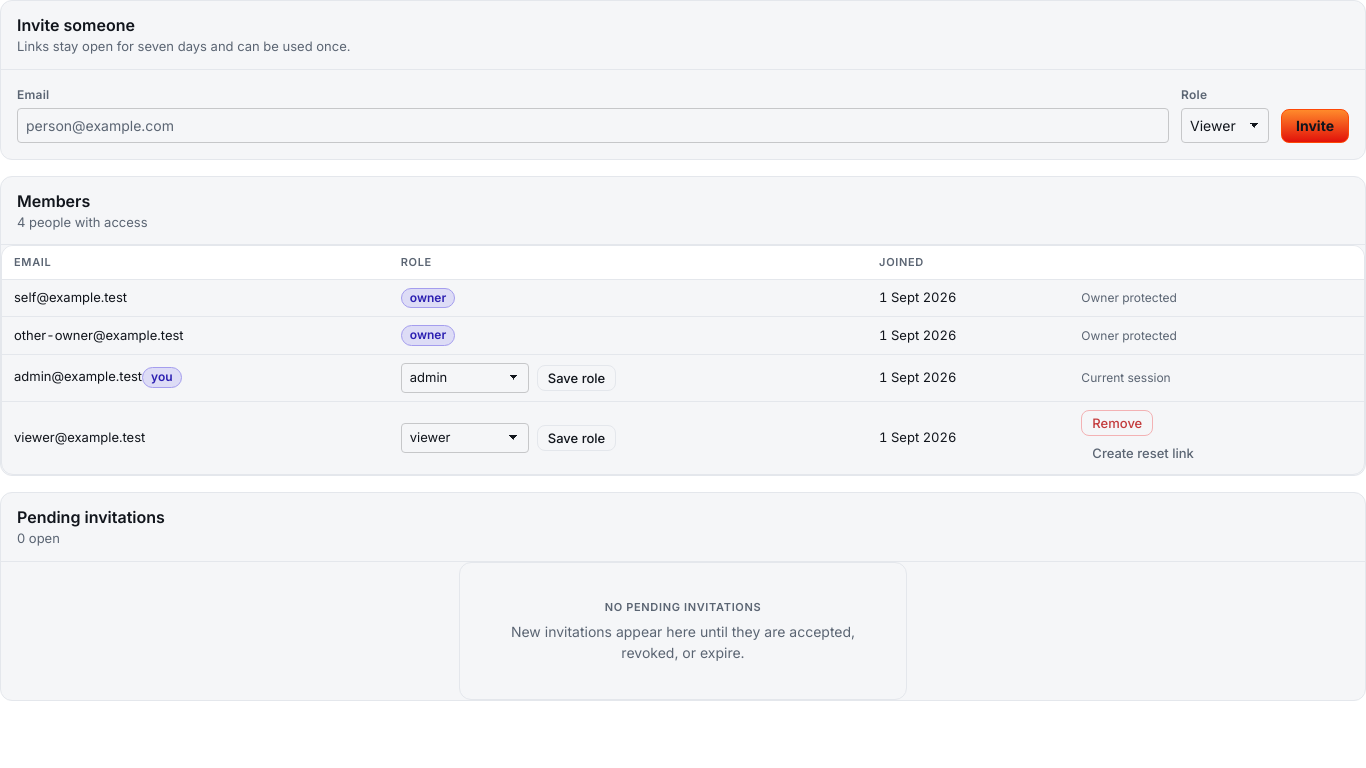
Test: members screen one-time links › shows a reset link once and a refusal as an alert
The width and height of the screenshot is (1366, 768).
Click the button with test id "create-reset-link": (1143, 453) x1=1081 y1=440 x2=1205 y2=466
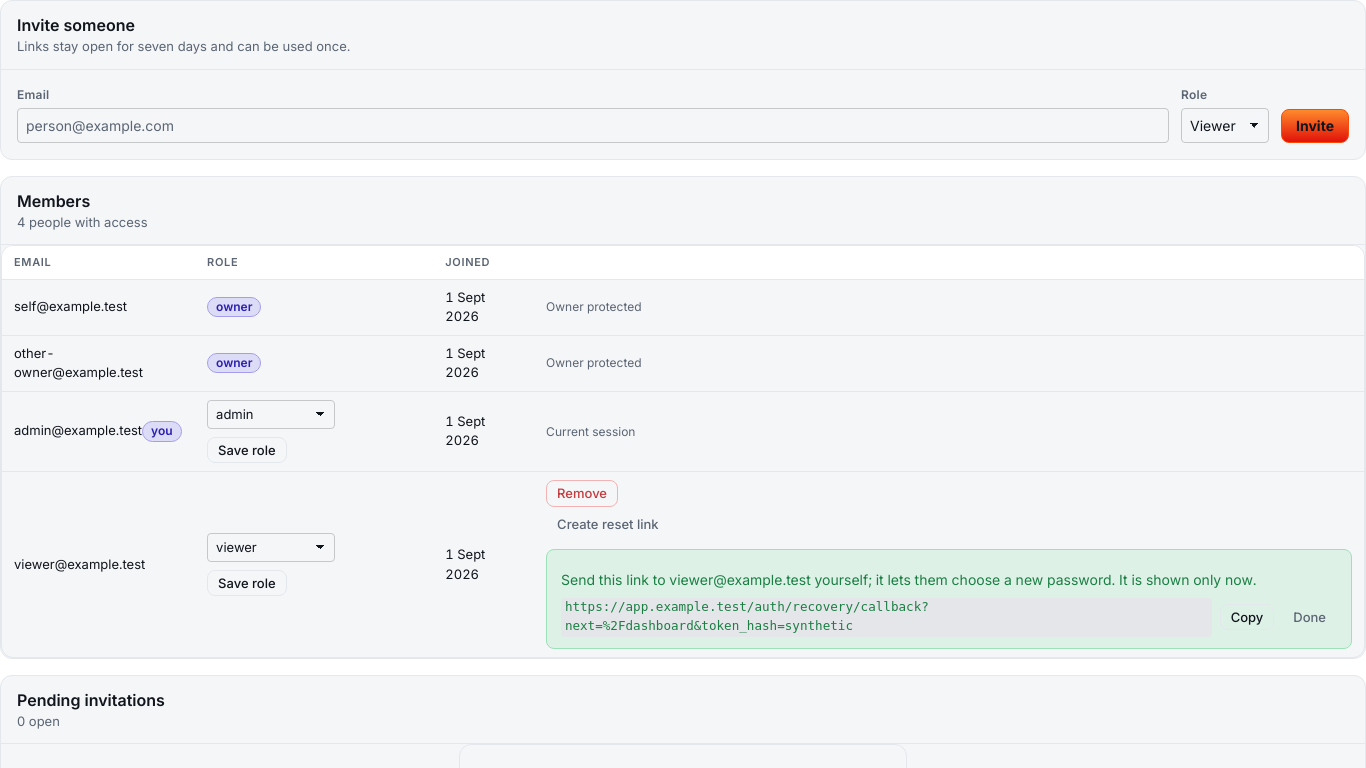
Expected: the number of elements with test id "reset-url" is 1, x1=561 y1=598 x2=1212 y2=637
Expected: the text with test id "reset-url-instruction" shows "Send this link to viewer@example.test yourself; it lets them choose a new password. It is shown only now.", x1=561 y1=571 x2=1257 y2=588
Click the button with test id "create-reset-link": (608, 524) x1=546 y1=510 x2=670 y2=537
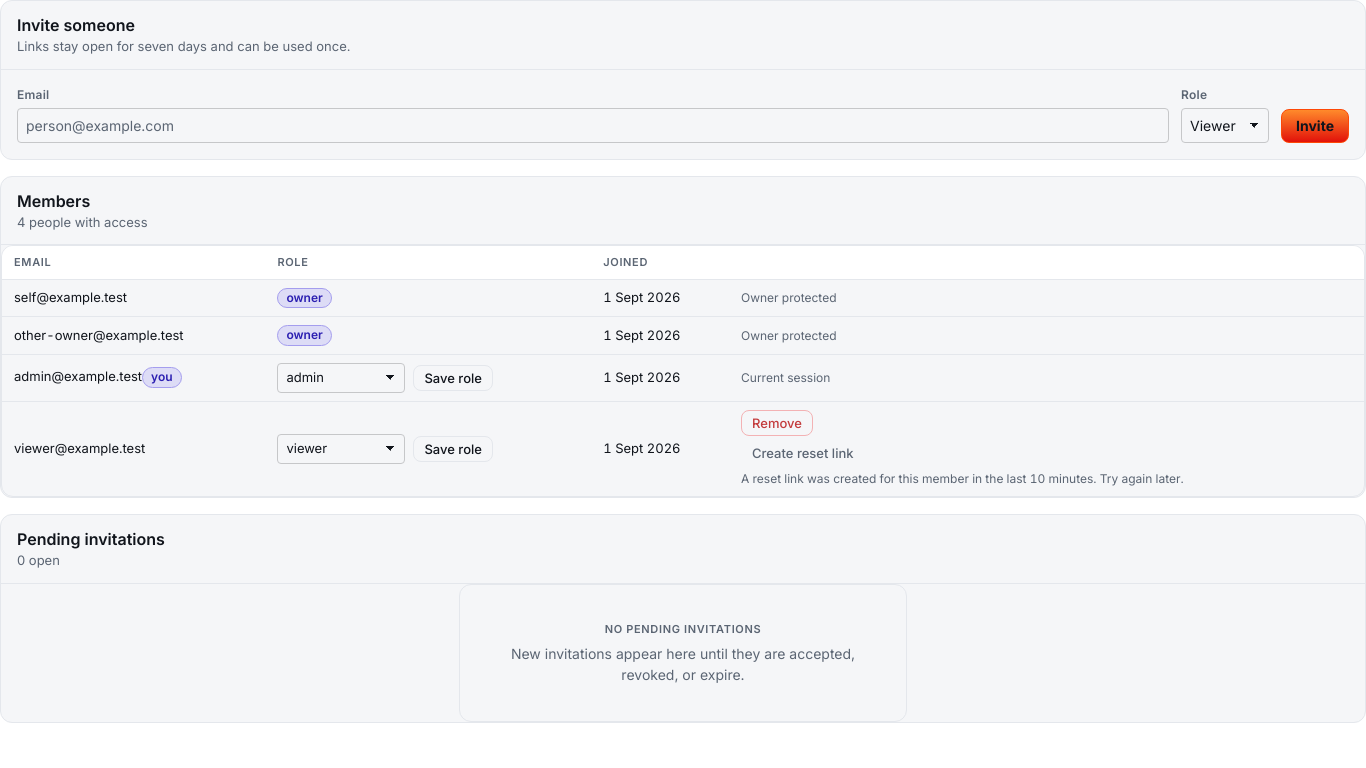
Expected: the number of messages with test id "reset-link-error" is 1, x1=741 y1=471 x2=1184 y2=486
Expected: the message with test id "reset-link-error" shows "A reset link was created for this member in the last 10 minutes. Try again later.", x1=741 y1=471 x2=1184 y2=486
Expected: no elements with test id "reset-url" are shown
